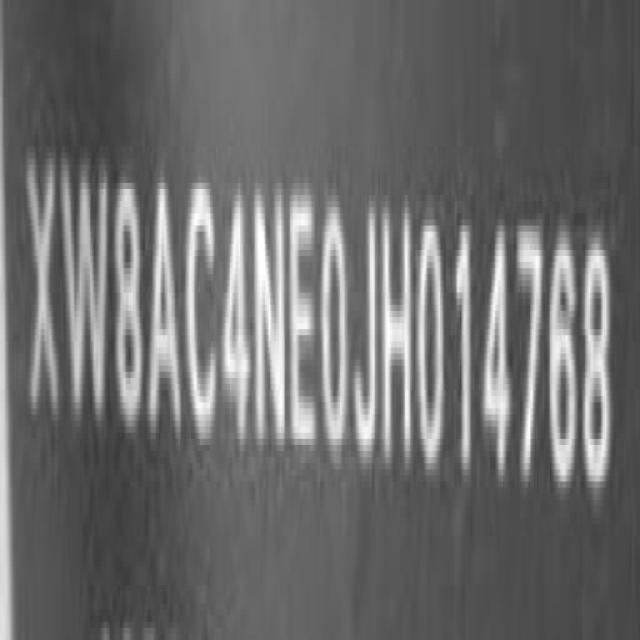0: (418, 197, 447, 485), (321, 182, 348, 468)
1: (454, 210, 476, 490)
4: (482, 214, 512, 493), (222, 178, 251, 458)
6: (551, 225, 581, 496)
7: (518, 211, 546, 502)
8: (585, 224, 616, 498), (117, 167, 144, 440)
A: (150, 169, 182, 449)
C: (187, 175, 221, 452)
E: (292, 176, 320, 464)
H: (385, 192, 416, 478)
J: (352, 186, 382, 471)
N: (254, 178, 290, 462)
W: (64, 144, 113, 435)
X: (25, 142, 59, 434)
